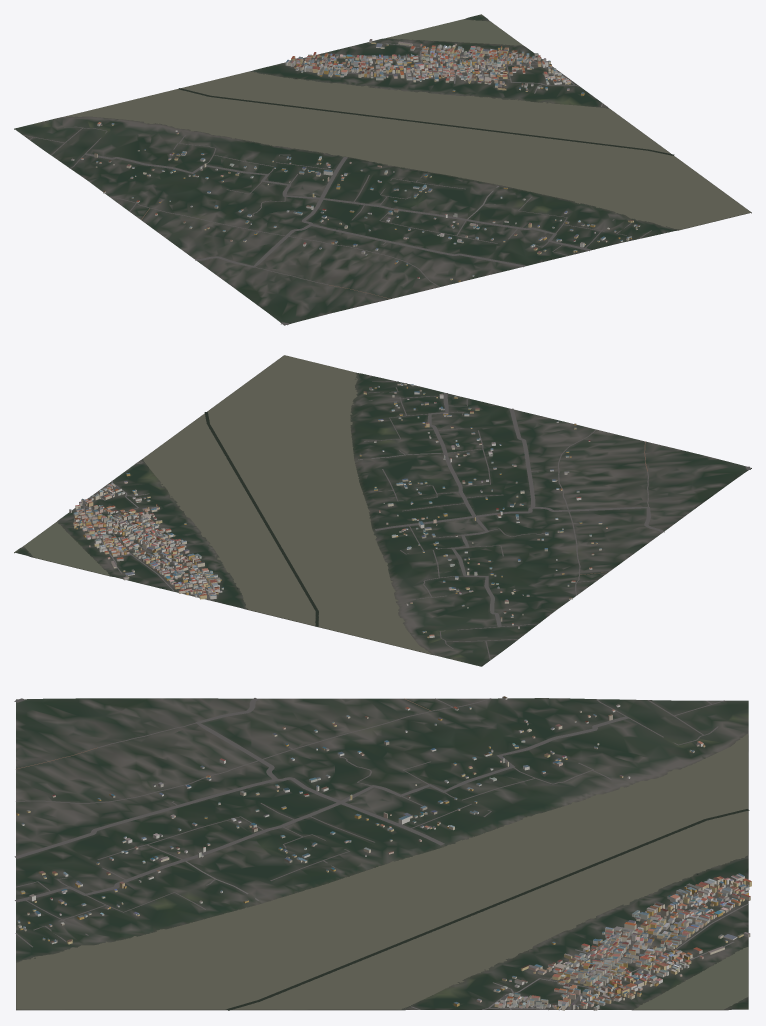
The picture shows the model from 3 angles, top to bottom: view 1: azimuth 30°, elevation 25°; view 2: azimuth 150°, elevation 25°; view 3: azimuth 270°, elevation 25°; orthographic projection. The views are drawn at different scales.
Parts seen in each view (by area): view 1: ground, water, buildings, roads; view 2: ground, water, buildings, roads; view 3: ground, water, buildings, roads.
Boxes of the visible parts, <box> form: ground: <box>14,14,751,325</box>; water: <box>65,19,750,229</box>; buildings: <box>71,39,640,281</box>; roads: <box>23,43,651,325</box>; ground: <box>14,355,751,666</box>; water: <box>24,355,431,654</box>; buildings: <box>69,382,607,637</box>; roads: <box>82,381,750,660</box>; ground: <box>16,698,748,1010</box>; water: <box>16,733,749,1010</box>; buildings: <box>16,696,751,1010</box>; roads: <box>14,698,748,1010</box>.
Size of the model in its own units: 1408 by 18.5 by 1412.
